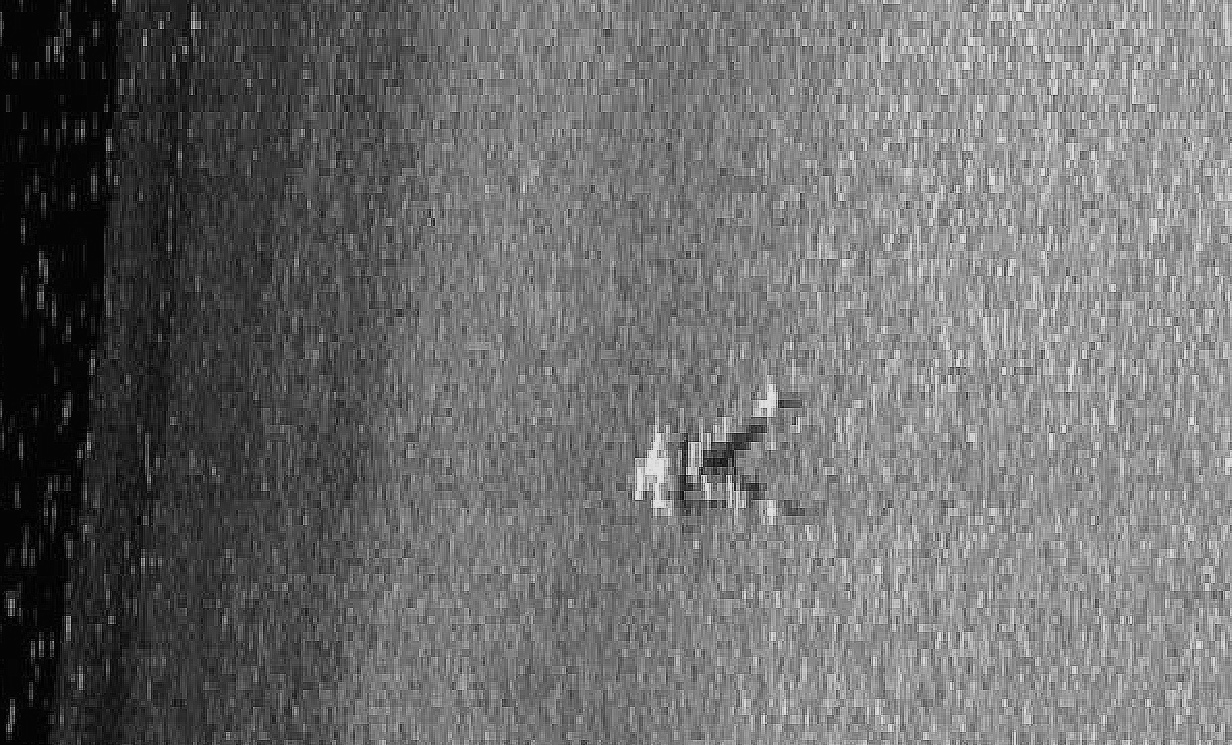man: (613, 370, 813, 530)
